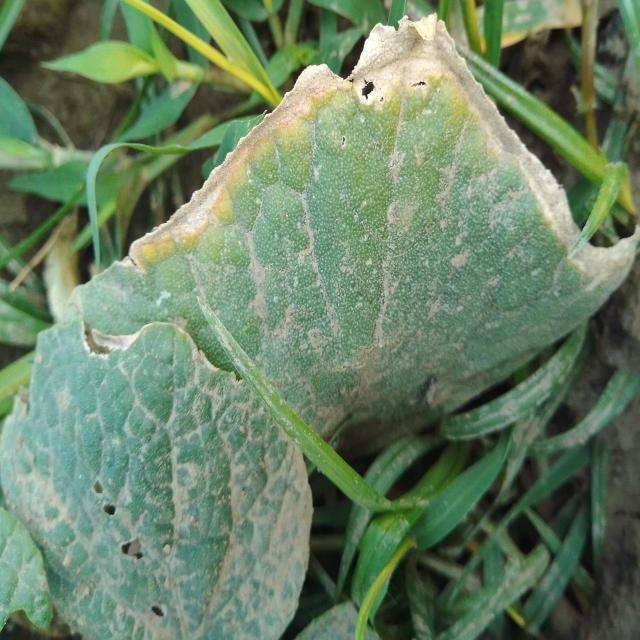cucumber_gummy: (1, 13, 639, 640)
